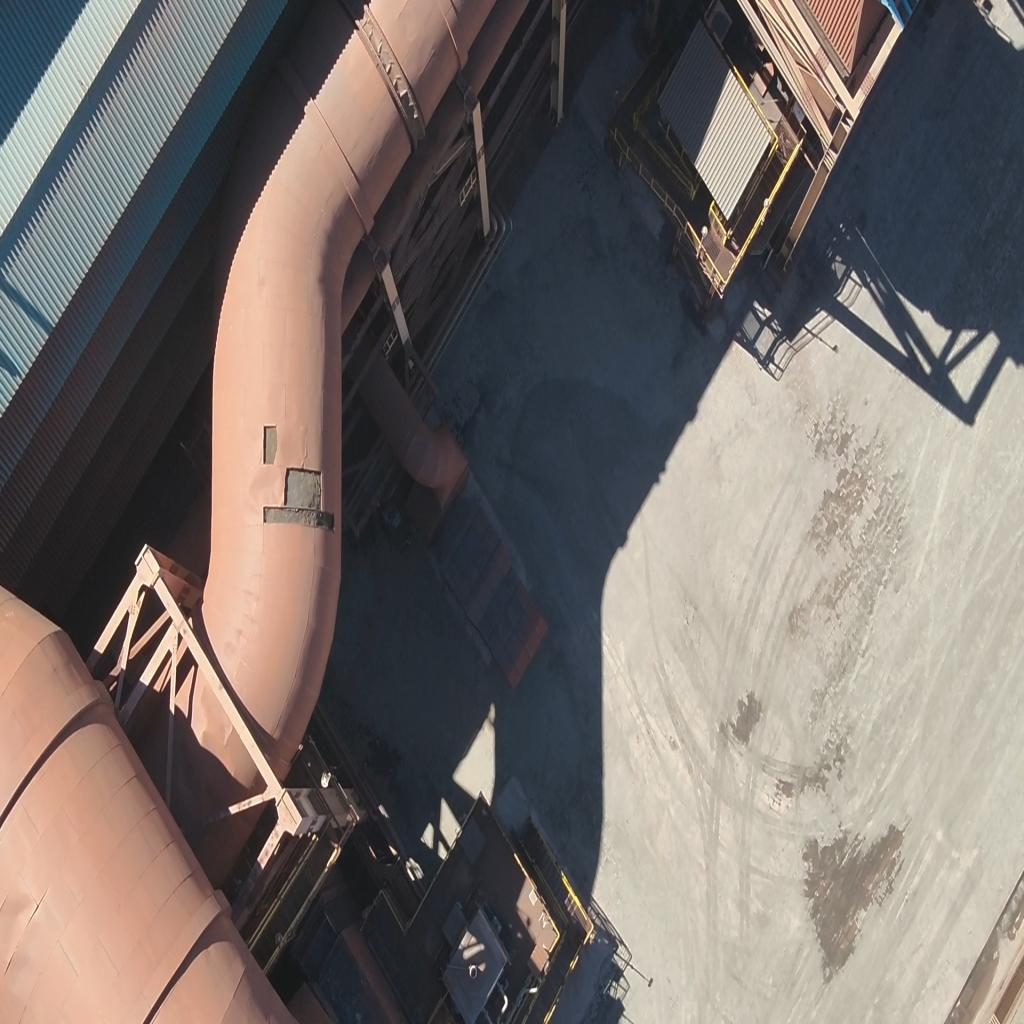Failures: (266, 466, 333, 525), (258, 413, 281, 474)
